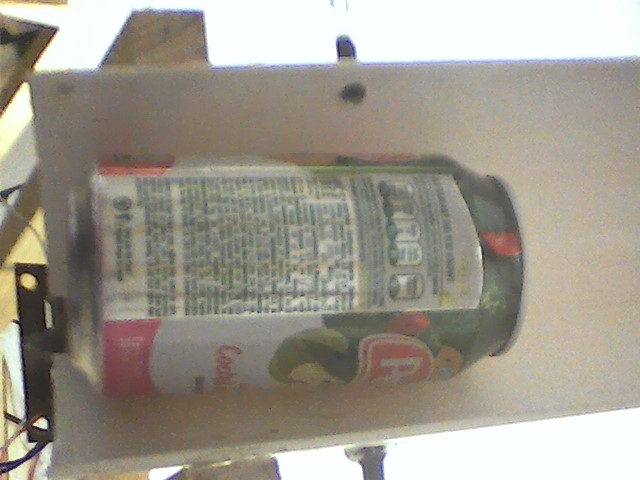lata: (59, 144, 534, 413)
